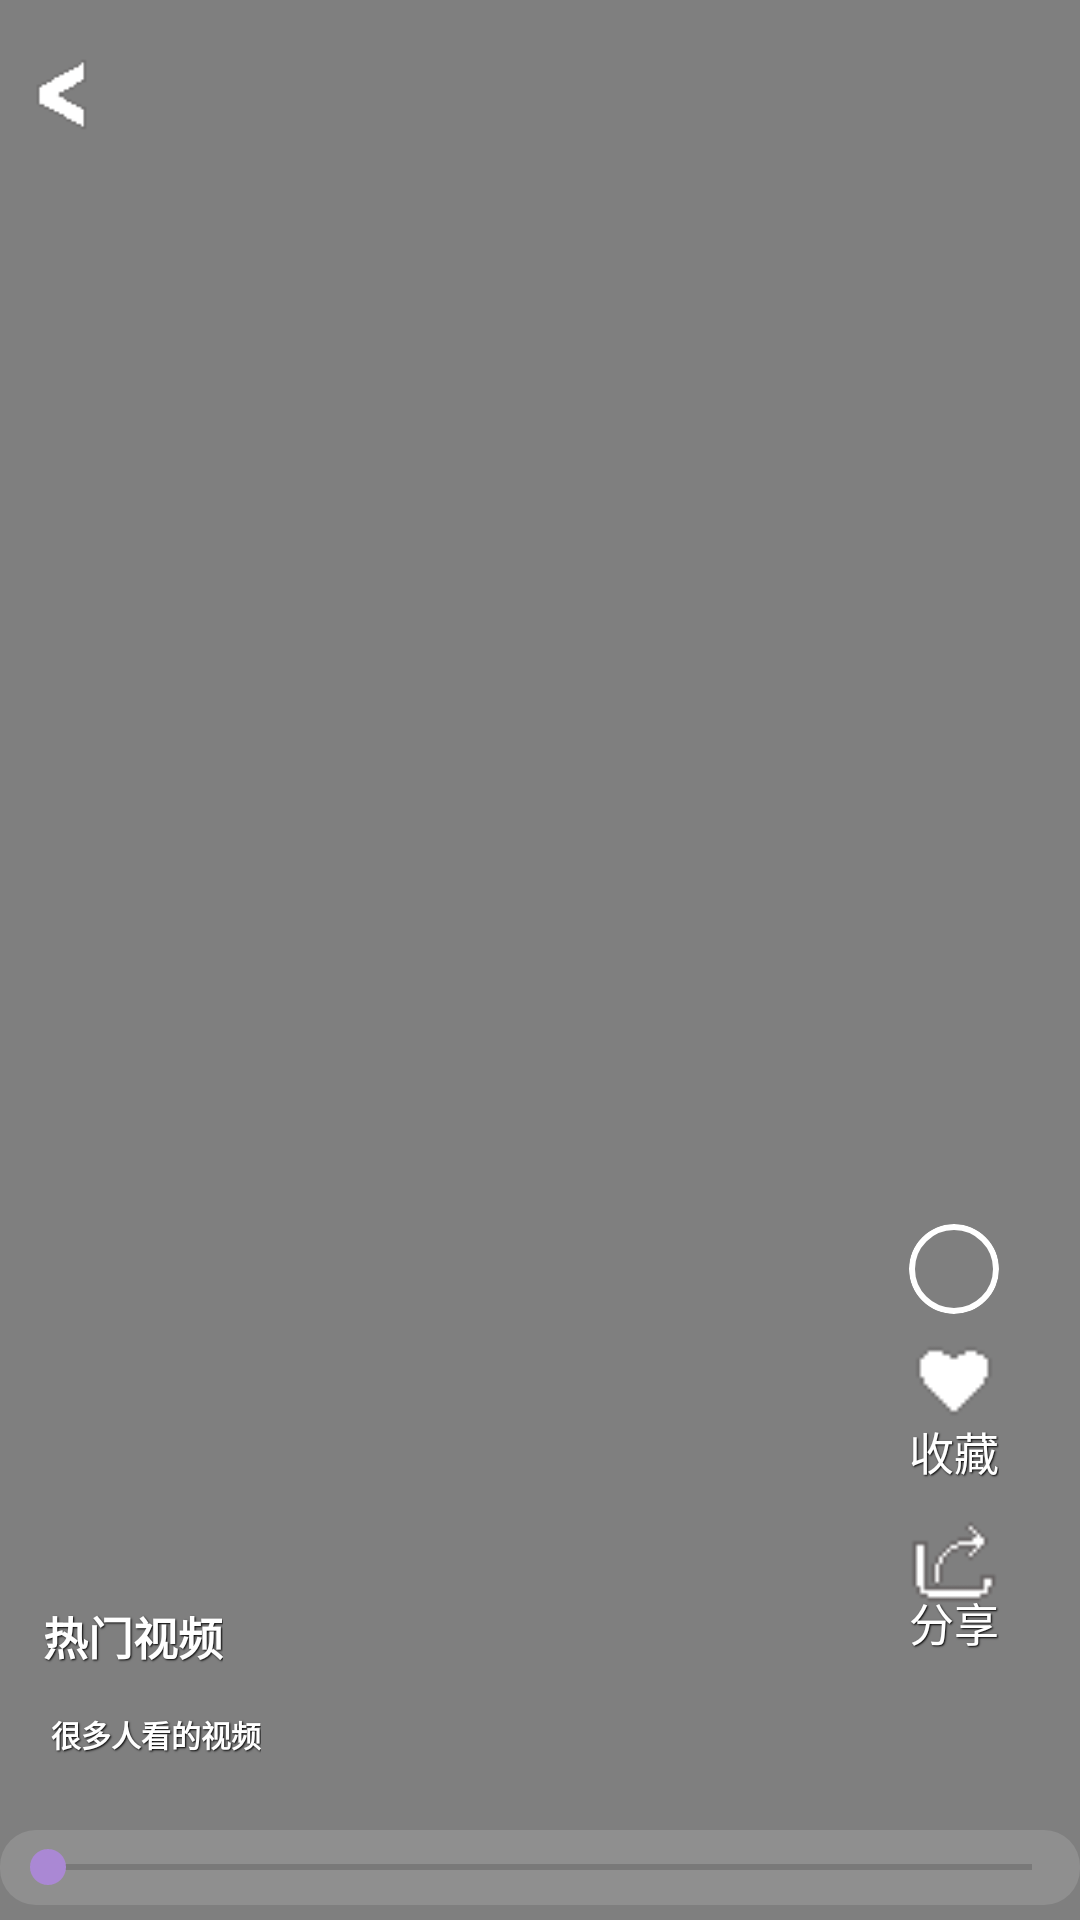

Icons on this 1080x1920 Android screen, each with the point to tap as (x,y):
back: (61,94)
